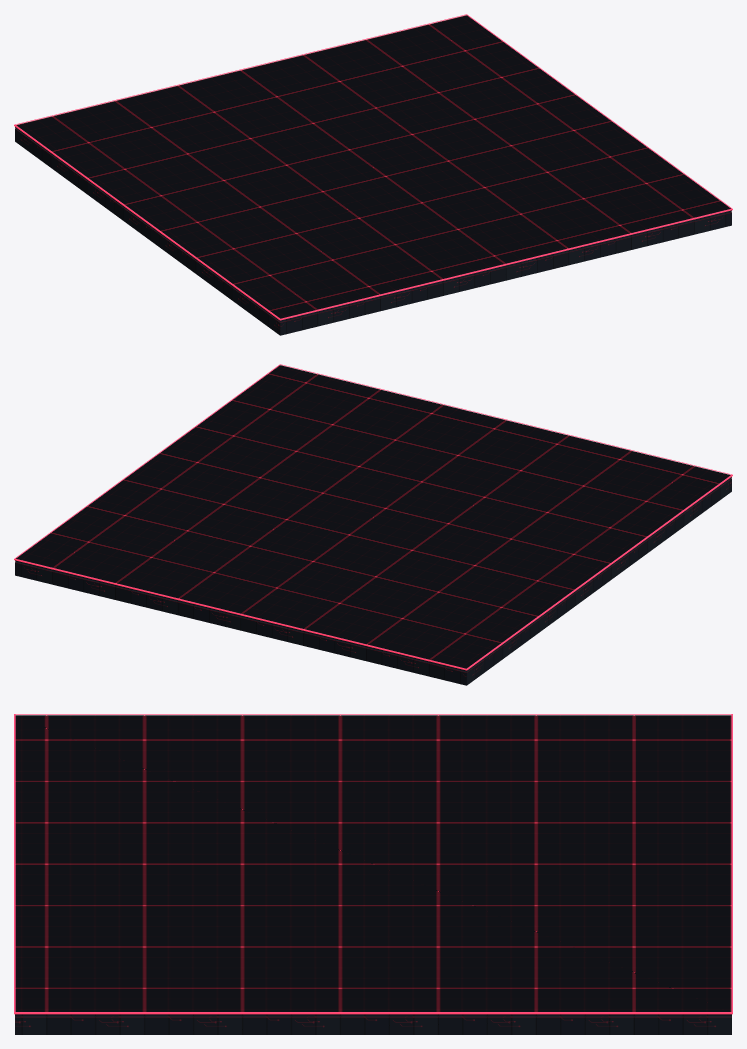
File: kb_hatch_red.glb
The picture shows the model from 3 angles, top to bottom: view 1: azimuth 30°, elevation 25°; view 2: azimuth 150°, elevation 25°; view 3: azimuth 270°, elevation 25°; orthographic projection. The views are drawn at different scales.
Parts seen in each view (by area): view 1: skin; view 2: skin; view 3: skin.
Boxes of the visible parts, x1,y1,x2,y2 form: skin: (14,14,732,335); skin: (14,364,732,685); skin: (14,714,732,1034).
Bounding box in the file's own units: 28.87 × 1.01 × 29.37.
Materials: 3 (2 with a texture image).
